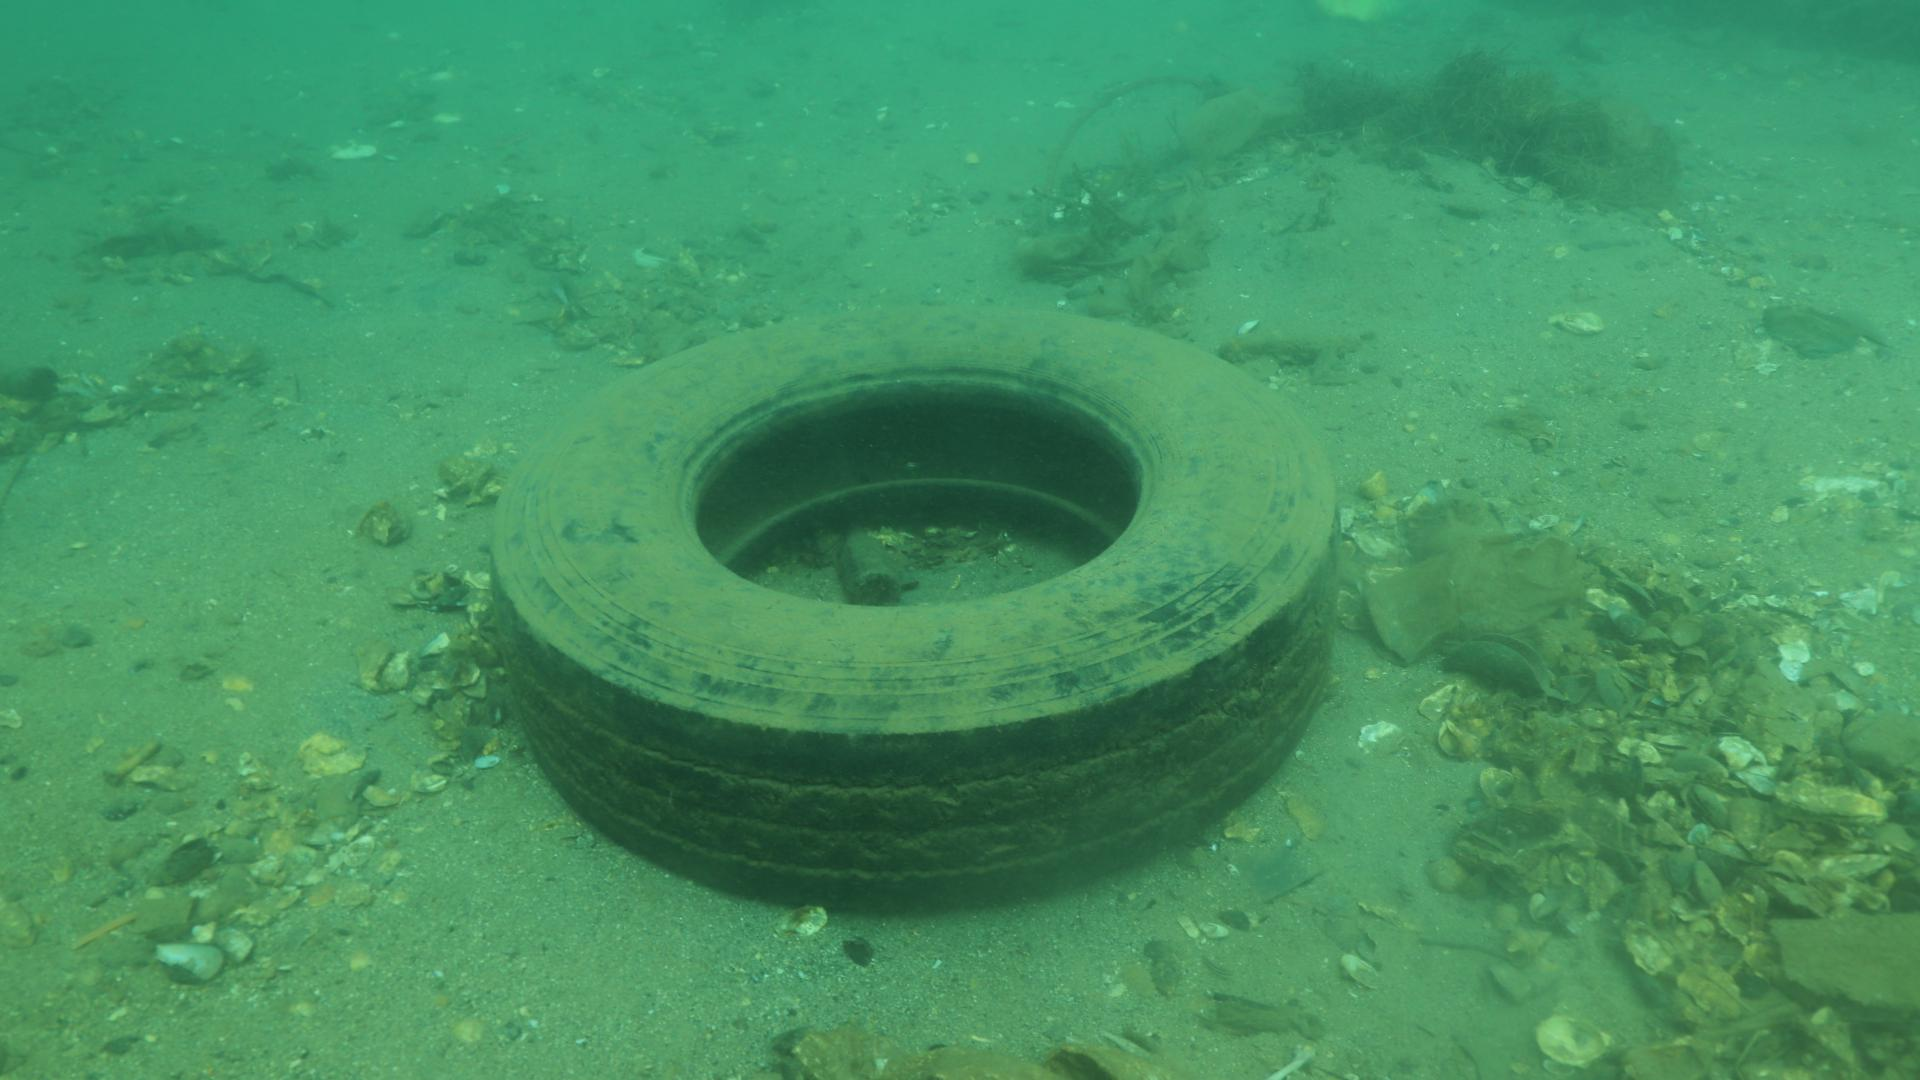tire: (487, 305, 1341, 913)
